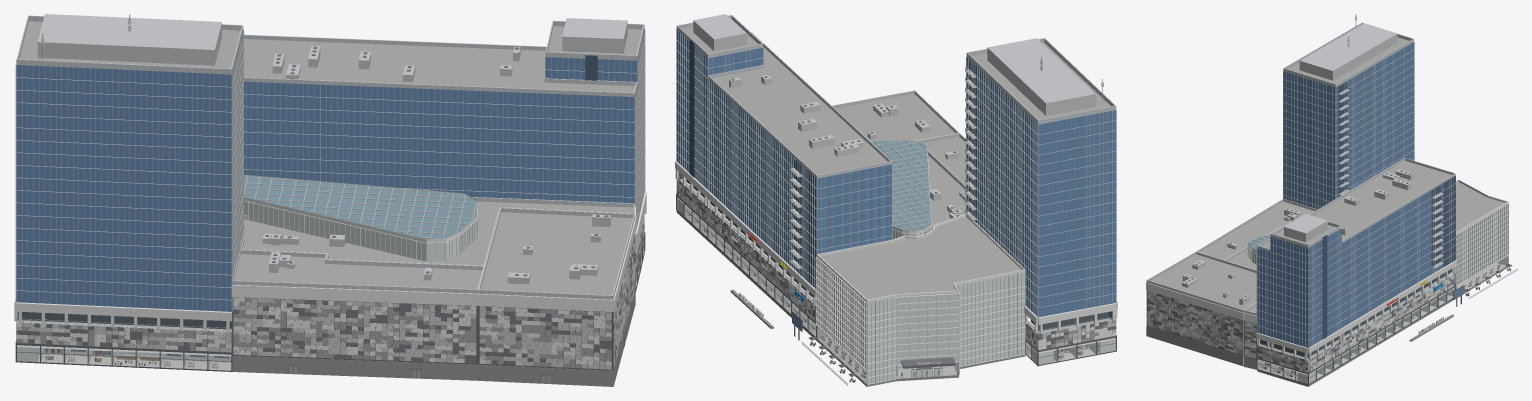
File: mall.glb
3 renders of one model, left to right at view 1: azimuth 30°, elevation 25°; view 2: azimuth 150°, elevation 25°; view 3: azimuth 270°, elevation 25°, orthographic. The views are drawn at different scales.
Parts seen in each view (by area): view 1: mall; view 2: mall; view 3: mall.
Part boxes in pixels (x1,y1,x2,y2): mall: (14,14,646,386); mall: (675,14,1117,386); mall: (1146,14,1517,386).
Bounding box in the file's own units: 177 × 95.84 × 157.
